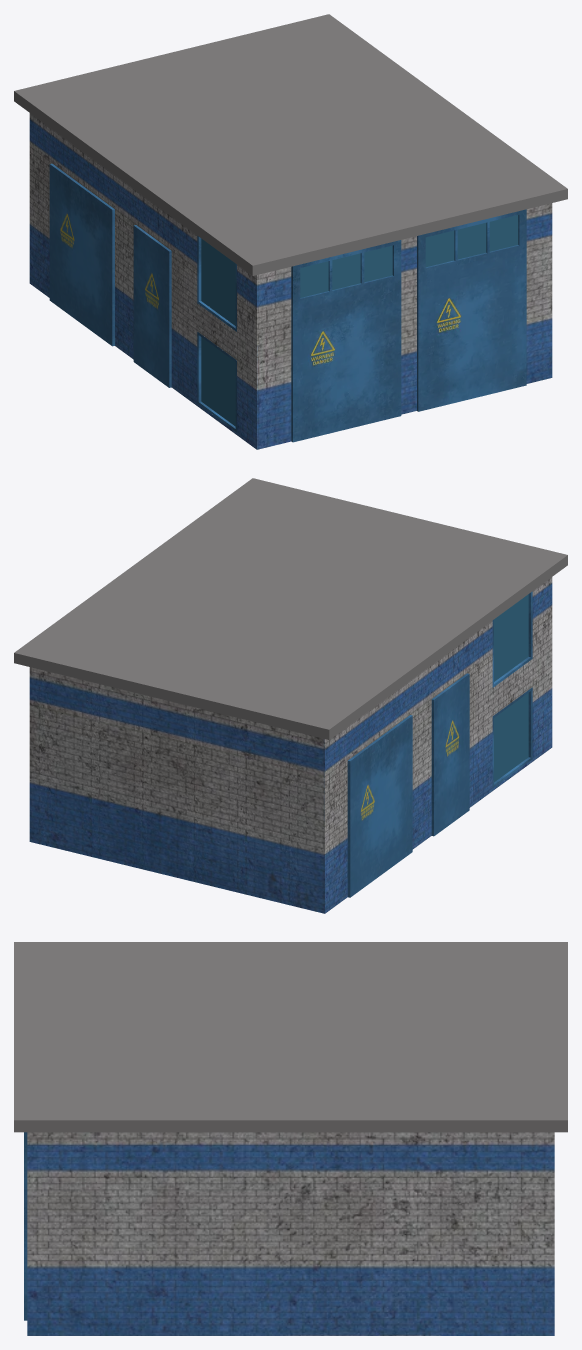
File: transformer-kiosk.lod0.glb
3 views of the same model, one above another, from view 1: azimuth 30°, elevation 25°; view 2: azimuth 150°, elevation 25°; view 3: azimuth 270°, elevation 25° (orthographic). The views are drawn at different scales.
Parts seen in each view (by area): view 1: Zdanie_ETP_roof_0, Zdanie_ETP_metal_0, Zdanie_ETP_Brick_0; view 2: Zdanie_ETP_roof_0, Zdanie_ETP_Brick_0, Zdanie_ETP_metal_0; view 3: Zdanie_ETP_Brick_0, Zdanie_ETP_roof_0, Zdanie_ETP_metal_0.
Part boxes in pixels (x1,y1,x2,y2): Zdanie_ETP_roof_0: (14, 14, 567, 426); Zdanie_ETP_metal_0: (49, 163, 526, 442); Zdanie_ETP_Brick_0: (29, 113, 552, 449); Zdanie_ETP_roof_0: (14, 478, 567, 782); Zdanie_ETP_Brick_0: (29, 577, 552, 913); Zdanie_ETP_metal_0: (347, 591, 532, 897); Zdanie_ETP_Brick_0: (27, 1132, 554, 1335); Zdanie_ETP_roof_0: (14, 942, 567, 1132); Zdanie_ETP_metal_0: (24, 1132, 27, 1320).
Bounding box in the file's own units: 3.2 × 1.85 × 4.2.
3 materials, 2 textured.
